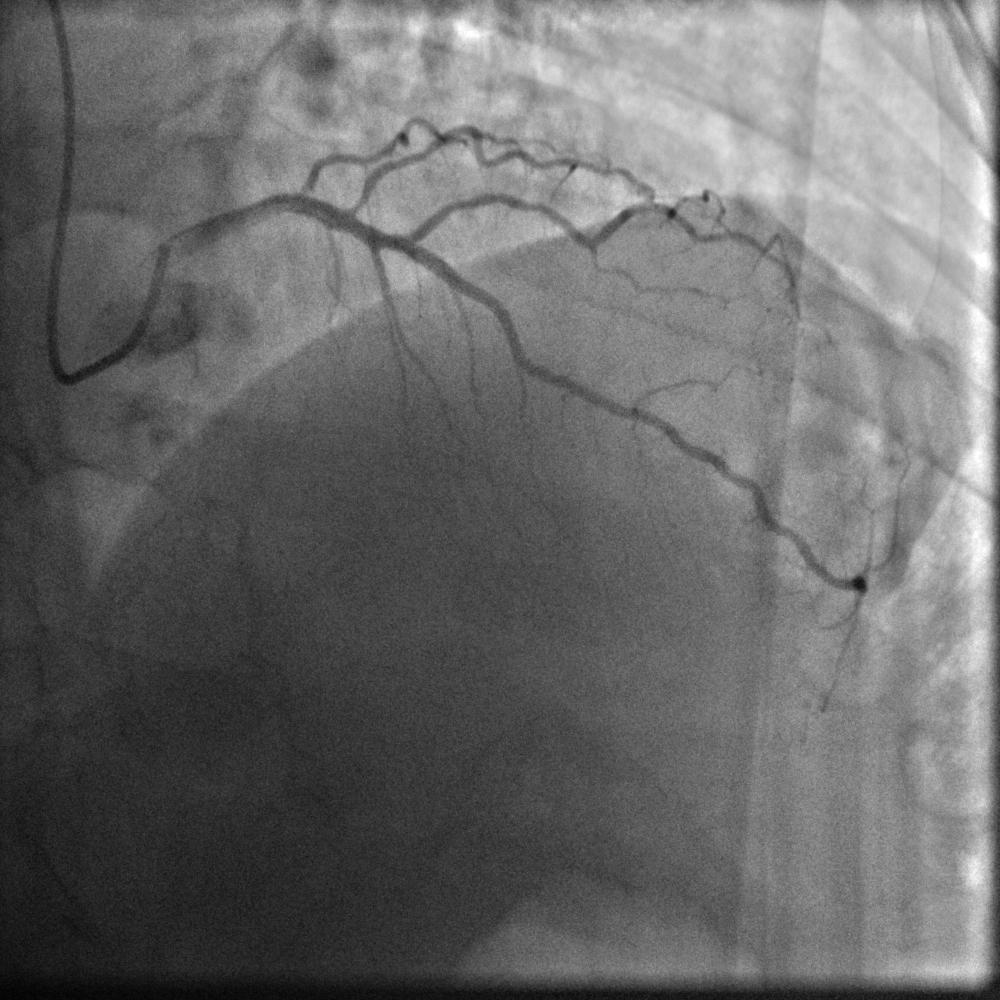Stenosis: (293, 161, 375, 220)
